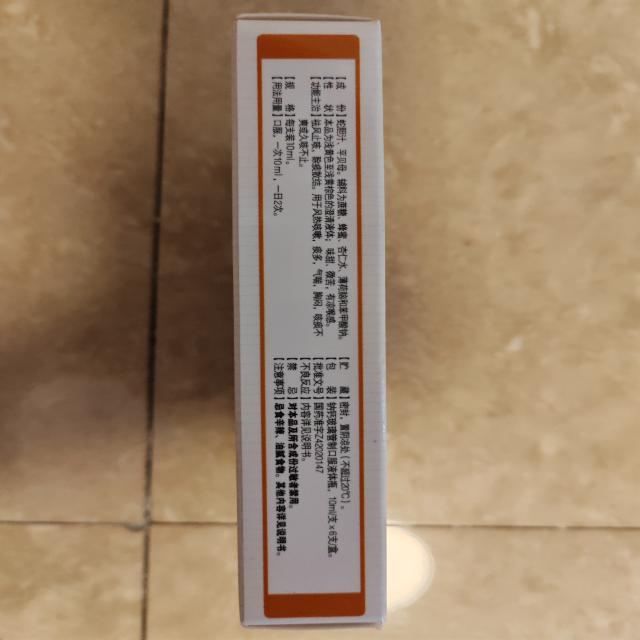box: (220, 6, 405, 636)
